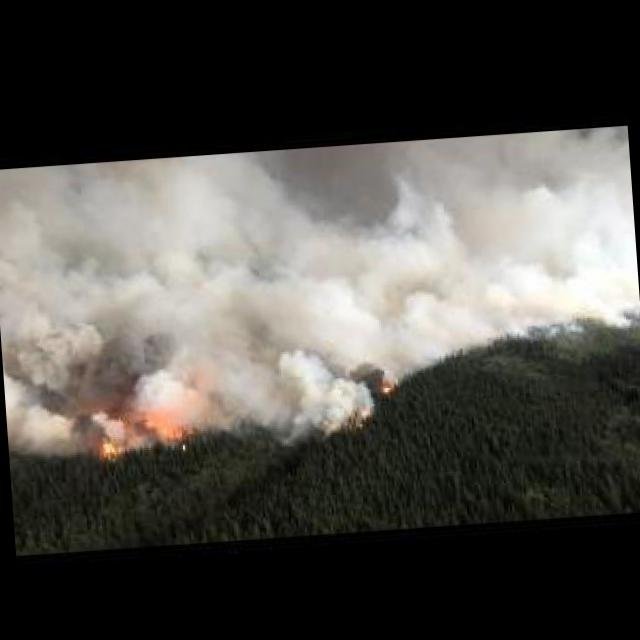fire: (92, 414, 184, 462)
